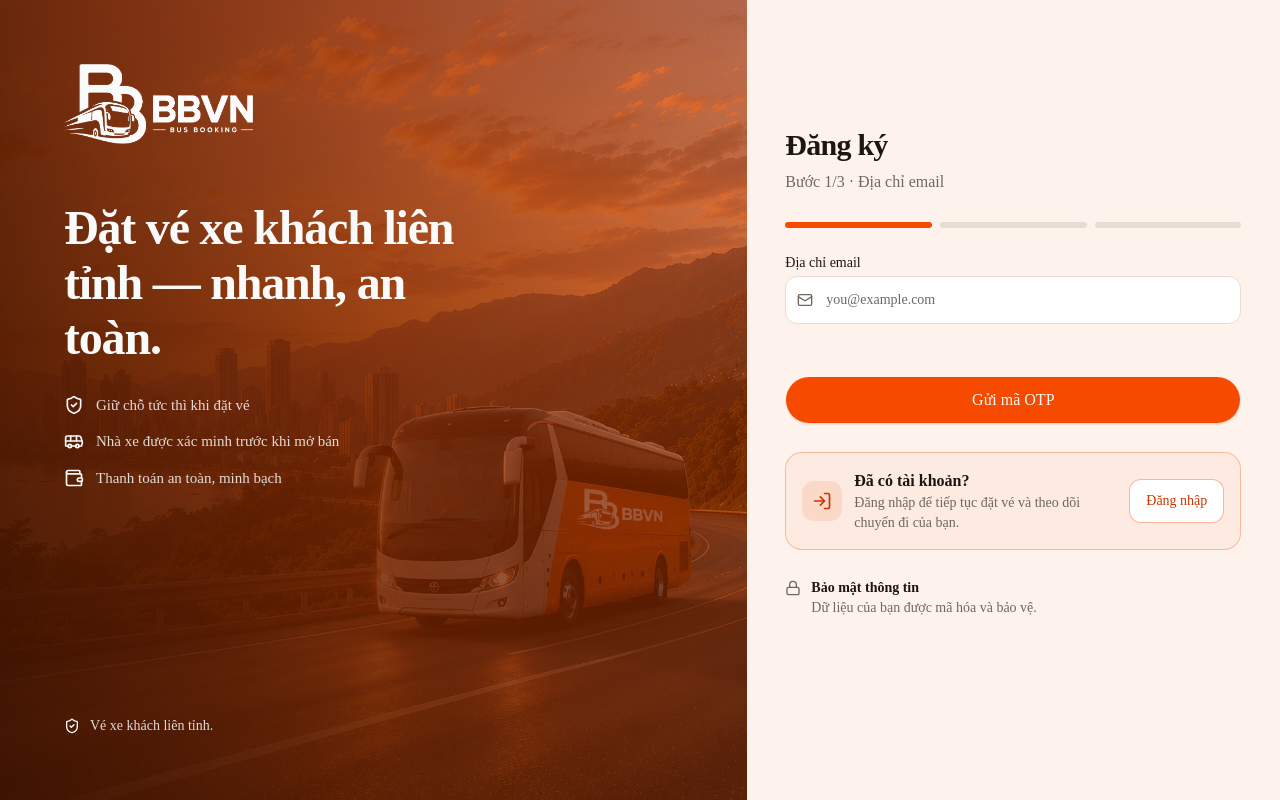
Test case: register resend-OTP cooldown › seeds the cooldown from retryAfter on a rate_limited resend
Submit the form "Gửi mã OTP", box [785,256,1241,424]
Wait 30000 ms
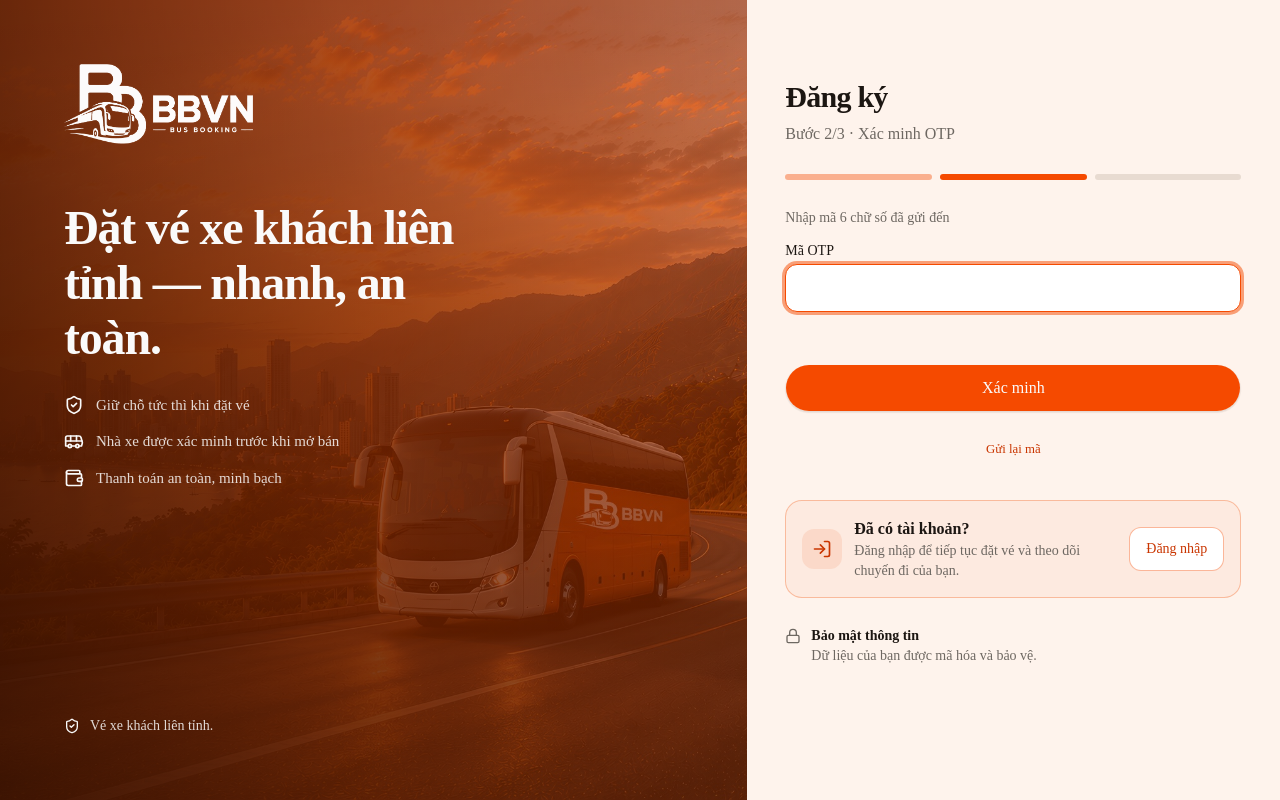
Click the button "Gửi lại mã" at (1013, 450), box [933,428,1093,472]
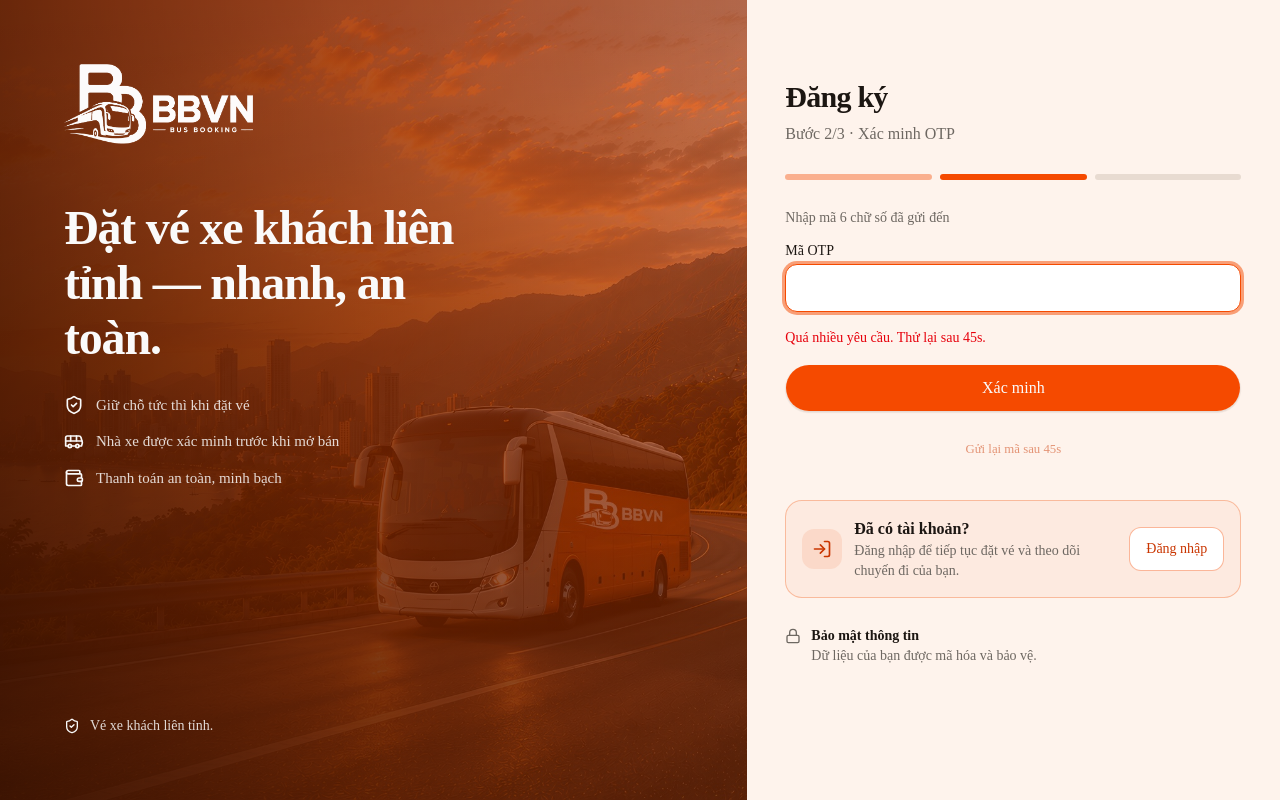
Check: the button "Gửi lại mã sau 45s" is disabled, box [933,428,1093,472]
